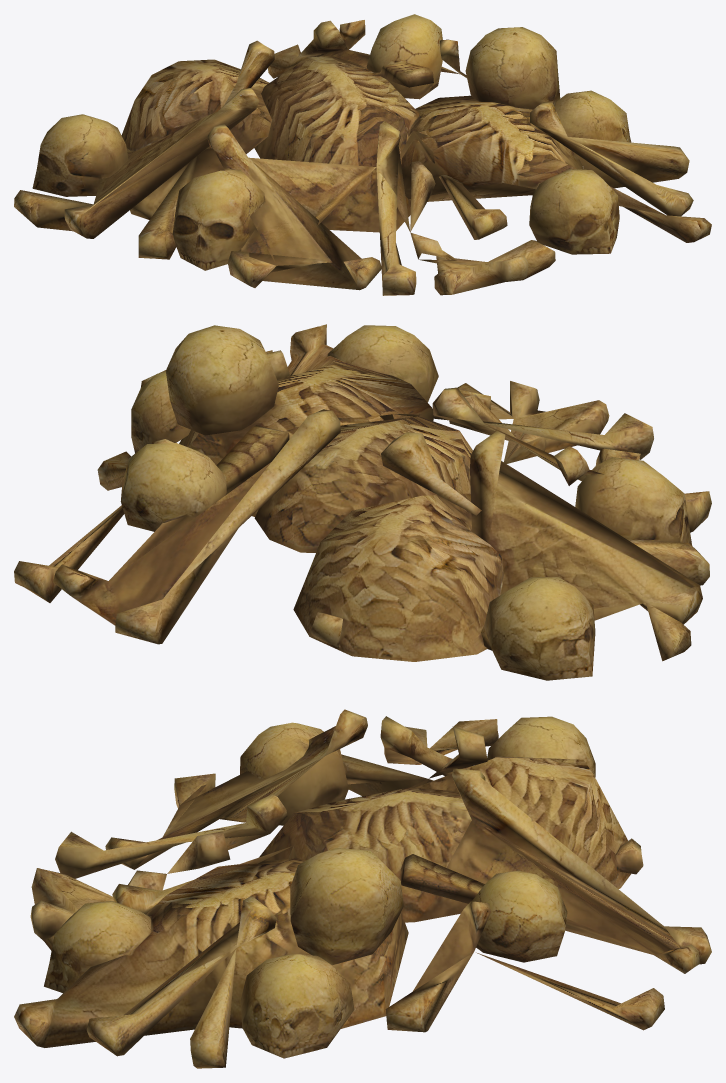
File: ossa.glb
3 renders of one model, top to bottom at view 1: azimuth 30°, elevation 25°; view 2: azimuth 150°, elevation 25°; view 3: azimuth 270°, elevation 25°, orthographic. The views are drawn at different scales.
Parts seen in each view (by area): view 1: ossa; view 2: ossa; view 3: ossa.
Part boxes in pixels (x1,y1,x2,y2): ossa: [14, 14, 711, 295]; ossa: [14, 324, 711, 680]; ossa: [14, 709, 711, 1068].
Bounding box in the file's own units: 0.9995 × 0.231 × 0.9058.
Materials: 1 (1 with a texture image).
